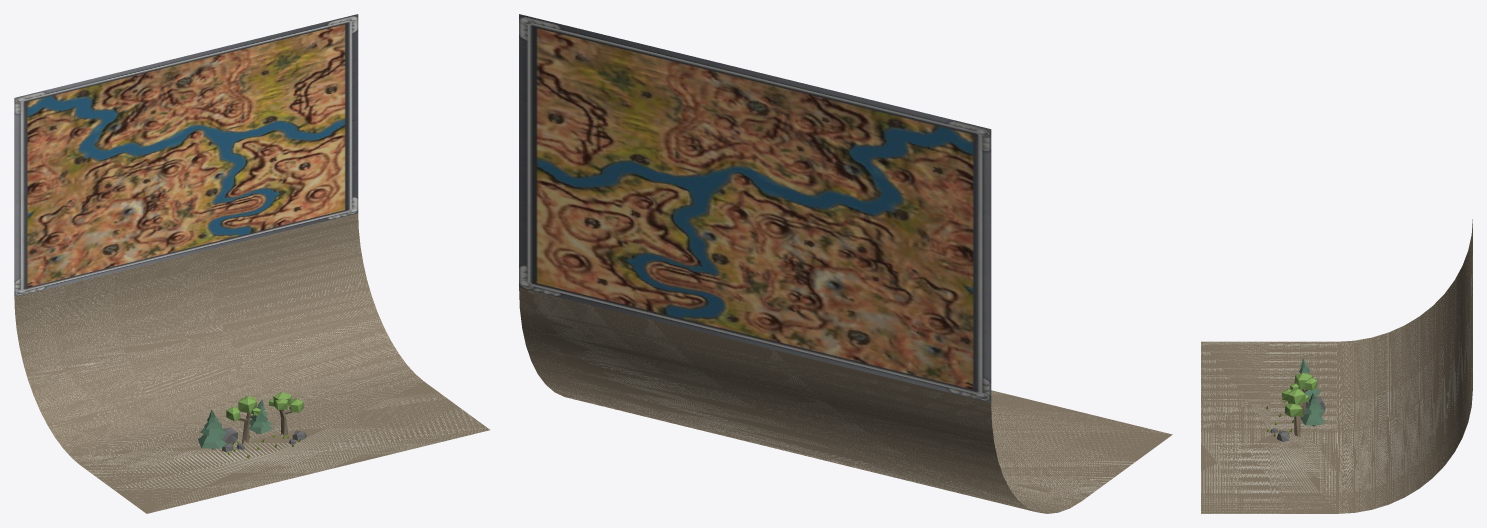
3 views of the same model, side by side, from view 1: azimuth 30°, elevation 25°; view 2: azimuth 150°, elevation 25°; view 3: azimuth 270°, elevation 25° (orthographic). The views are drawn at different scales.
Parts seen in each view (by area): view 1: group_0, image_0; view 2: image_0, group_0; view 3: group_0.
Part boxes in pixels (x1,y1,x2,y2): group_0: (14, 213, 489, 513); image_0: (14, 14, 358, 296); image_0: (519, 14, 991, 402); group_0: (519, 287, 1172, 513); group_0: (1201, 219, 1472, 513).
Bounding box in the file's own units: 1800 × 1200 × 1610.
